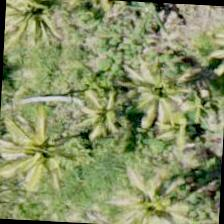Kelapa_Sawit: (120, 41, 215, 136), (61, 70, 156, 164), (0, 106, 85, 201), (103, 159, 198, 223), (2, 0, 75, 67)
